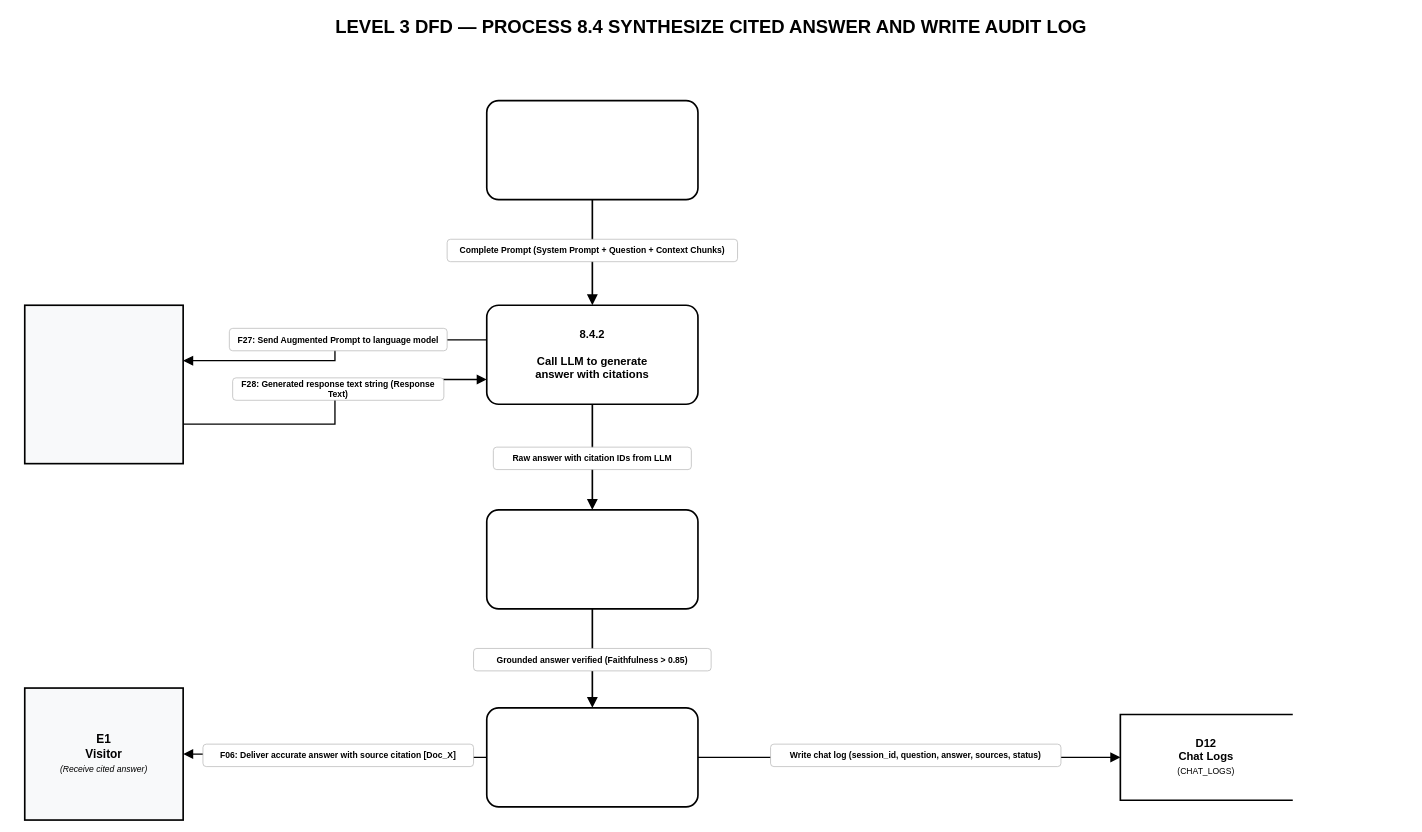
Some shapes in this 1422 by 832 pixel diagram are drawn without their labels. Here are the shapes that lost their labels. From the top down, the centre of each, then its label:
point (592, 150): 8.4.1 Assemble question & document context
point (104, 384): E6 LLM Service (Gemini 1.5 Flash / GPT-4o)
point (592, 559): 8.4.3 Check grounding & validate [Doc_X] citations
point (592, 757): 8.4.4 Write chat log & deliver answer
